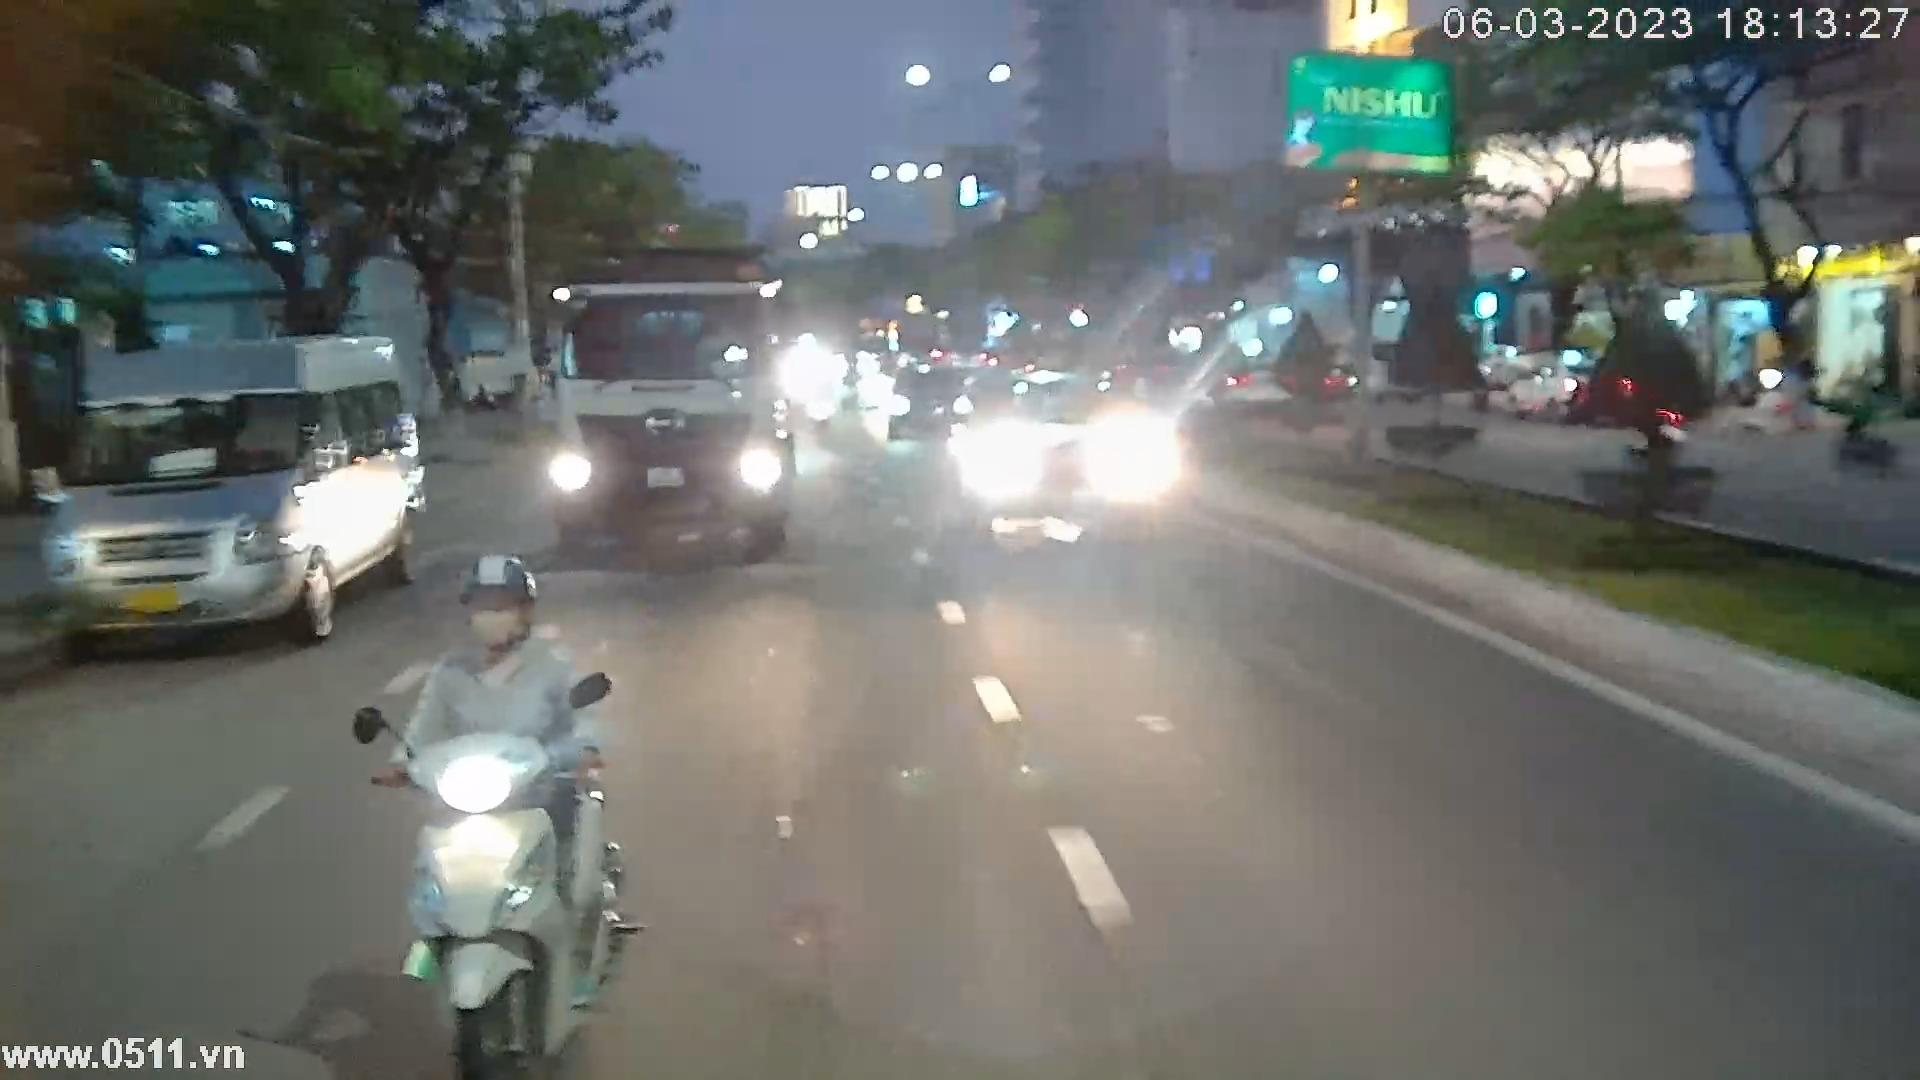bus: (34, 339, 429, 650)
car: (956, 356, 1182, 558), (1493, 340, 1594, 433)
motorcycle: (347, 545, 637, 1080)
truck: (542, 240, 796, 572)
